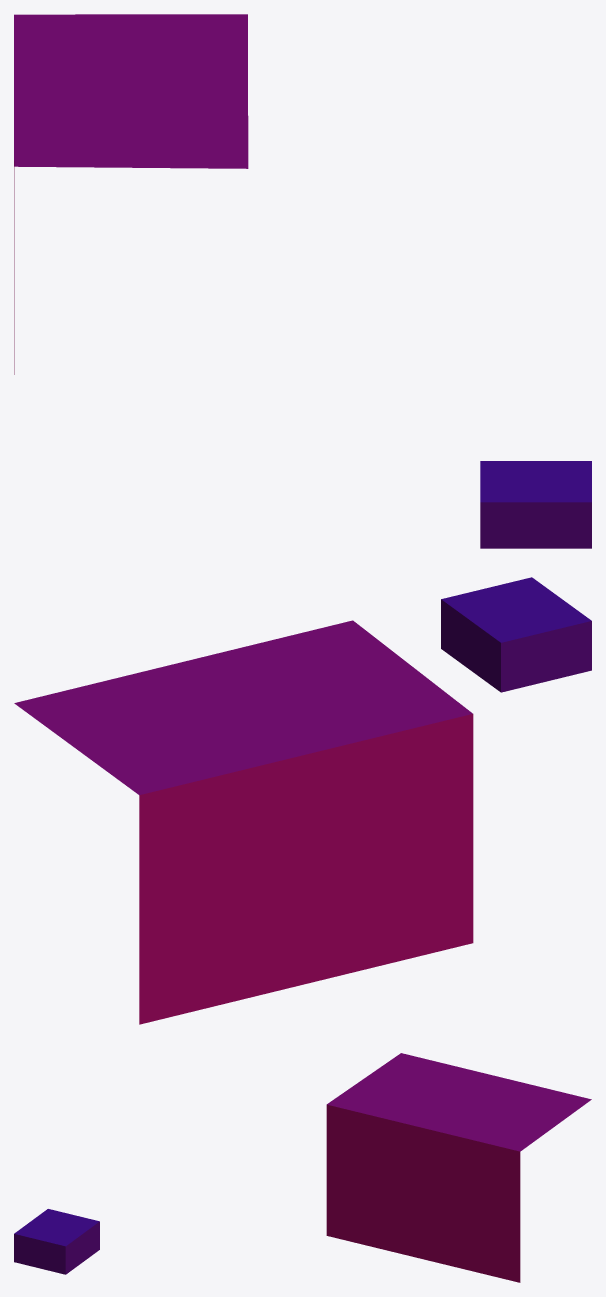
The model's file is buildings_14_9.glb.
The picture shows the model from 3 angles, top to bottom: view 1: azimuth 30°, elevation 25°; view 2: azimuth 150°, elevation 25°; view 3: azimuth 270°, elevation 25°; orthographic projection. The views are drawn at different scales.
Visible parts, largest first — view 1: buildings_14_9; view 2: buildings_14_9; view 3: buildings_14_9.
Boxes of the visible parts, x1,y1,x2,y2 form: buildings_14_9: (14, 14, 591, 548); buildings_14_9: (14, 577, 591, 1024); buildings_14_9: (14, 1053, 591, 1282).
Bounding box in the file's own units: 19.78 × 12.24 × 48.84.
